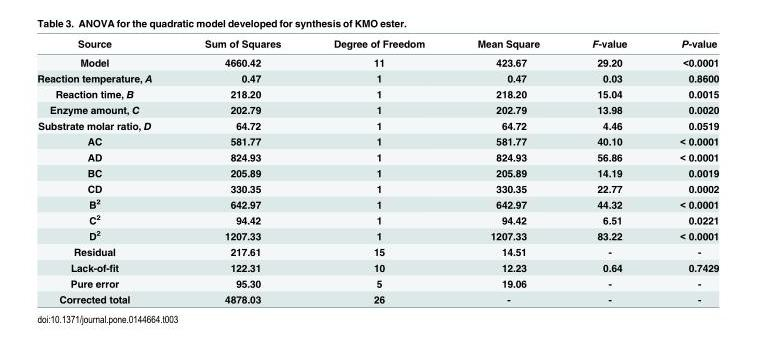table: (36, 36, 718, 304)
table column: (306, 36, 450, 304), (36, 36, 177, 304), (177, 36, 306, 304), (450, 36, 565, 304), (565, 36, 652, 304), (652, 36, 718, 304)
table column header: (36, 36, 718, 52)
table row: (36, 52, 718, 69), (36, 36, 718, 52), (36, 69, 718, 85), (36, 85, 718, 101), (36, 101, 718, 117), (36, 117, 718, 133), (36, 148, 718, 164), (36, 164, 718, 180), (36, 195, 718, 211), (36, 211, 718, 227), (36, 227, 718, 243), (36, 243, 718, 259), (36, 259, 718, 275), (36, 133, 718, 148), (36, 180, 718, 195), (36, 275, 718, 290), (36, 290, 718, 304)
